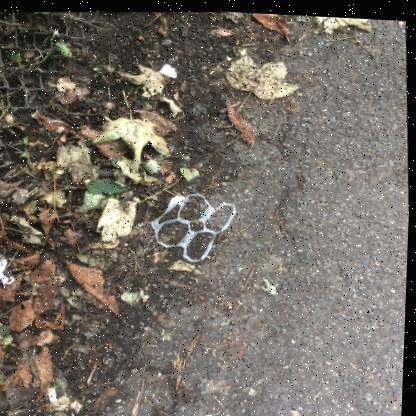Plastic: (152, 189, 237, 258), (158, 218, 190, 242), (188, 228, 215, 256)
Waste: (0, 251, 16, 283), (50, 385, 60, 403)
